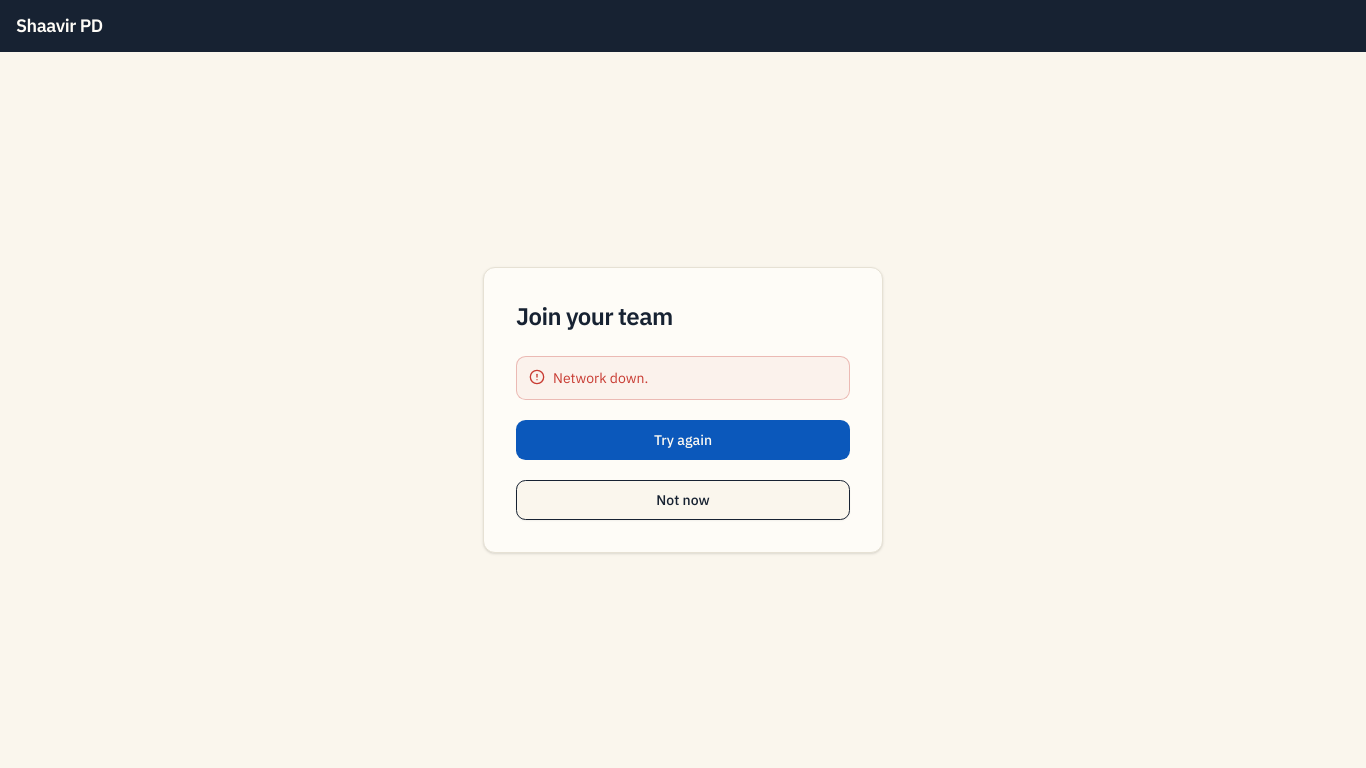
Test: InviteContainer › when loading the account fails, Try again loads it again and keeps the code
The width and height of the screenshot is (1366, 768).
Expected: the message reads "Network down.", [553,369,648,387]
Click the button "Try again".
click(683, 440)  # box [516,420,850,460]
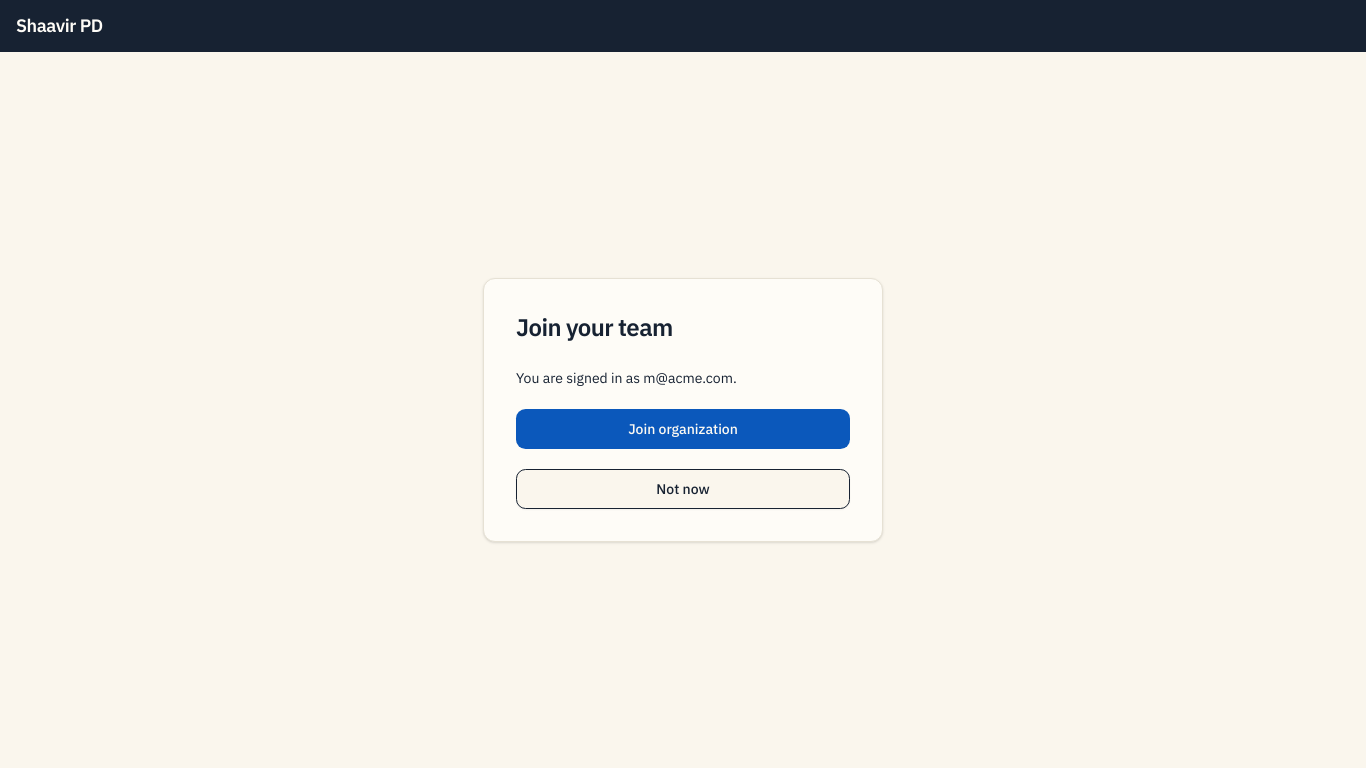
Result: the text "You are signed in as m@acme.com." is shown at [516,369,737,387]
